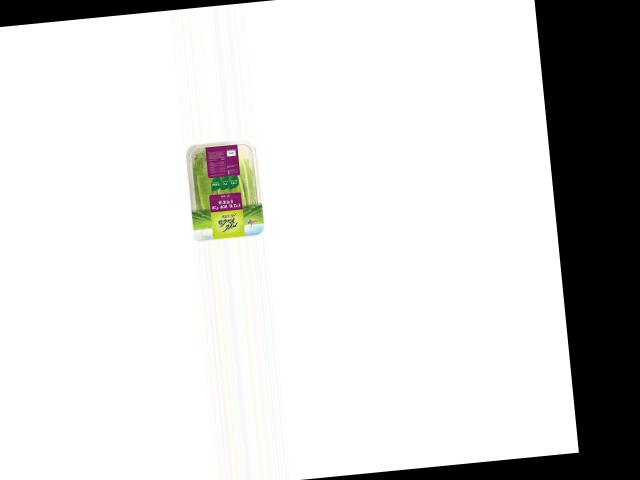lettuce: (184, 138, 265, 234)
